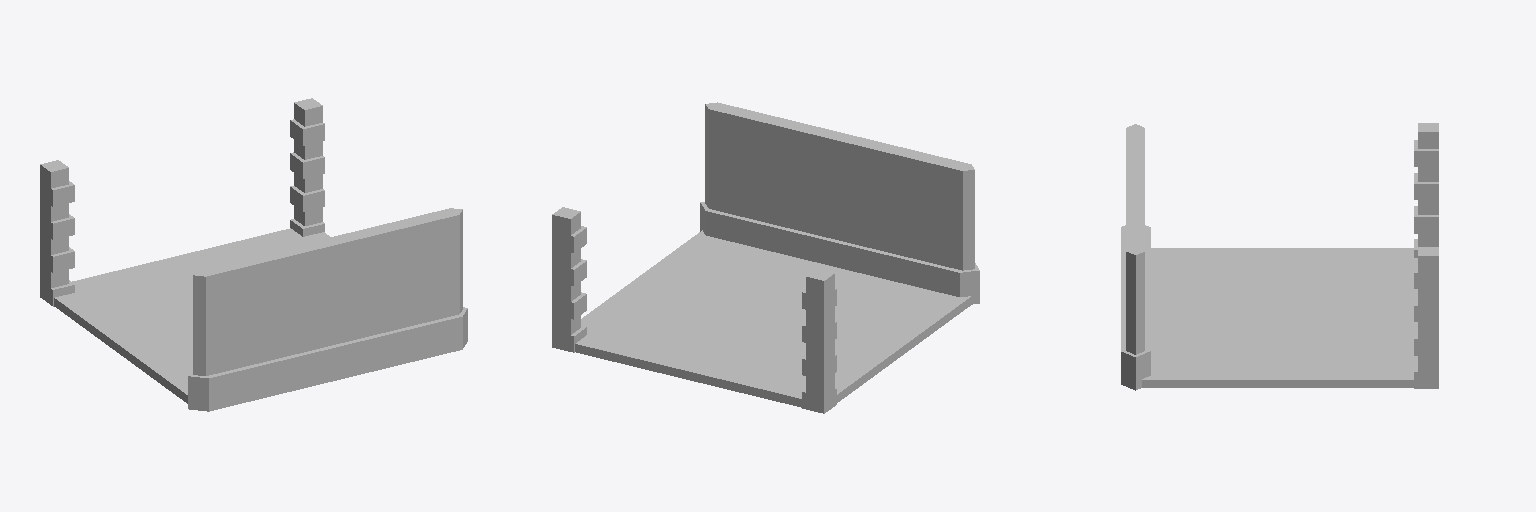
File: intersection_3way_04.obj
3 renders of one model, left to right at view 1: azimuth 30°, elevation 25°; view 2: azimuth 150°, elevation 25°; view 3: azimuth 270°, elevation 25°, orthographic.
Parts seen in each view (by area): view 1: wall_01_75, wall_01_74, floor_01_73, wall_borderBricks_78, wall_borderBricks_77; view 2: floor_01_73, wall_01_75, wall_01_74, wall_borderBricks_78, wall_borderBricks_77; view 3: floor_01_73, wall_01_74, wall_borderBricks_77, wall_borderBricks_78, wall_01_75.
Part boxes in pixels (x1,y1,x2,y2): wall_01_75: (188, 239, 337, 411); wall_01_74: (321, 208, 467, 380); floor_01_73: (54, 228, 329, 403); wall_borderBricks_78: (40, 160, 74, 306); wall_borderBricks_77: (290, 98, 324, 236); floor_01_73: (575, 230, 971, 407); wall_01_75: (833, 134, 979, 304); wall_01_74: (700, 102, 844, 265); wall_borderBricks_78: (802, 269, 836, 413); wall_borderBricks_77: (552, 207, 586, 352); floor_01_73: (1142, 248, 1417, 387); wall_01_74: (1121, 186, 1150, 390); wall_borderBricks_77: (1414, 247, 1438, 388); wall_borderBricks_78: (1414, 123, 1438, 257); wall_01_75: (1121, 124, 1150, 290).
Size of the model in its own units: 2.21 by 1 by 2.17.